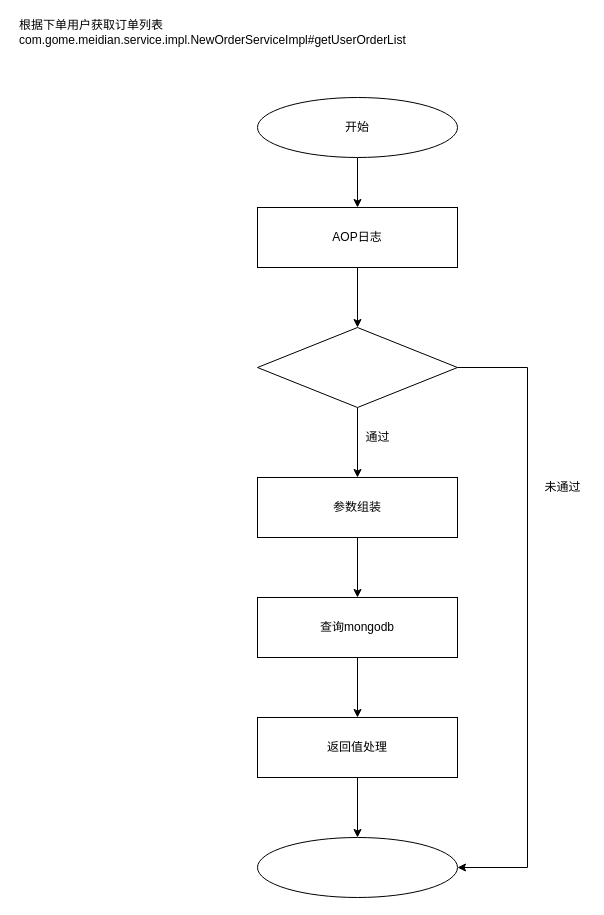
Image size: 604x915. Some labels were removed from this diagram. Here are the shapes that lost their labels. From the top down, the box of each, then its label:
(256, 326, 458, 408): 参数校验
(256, 836, 458, 898): 结束
